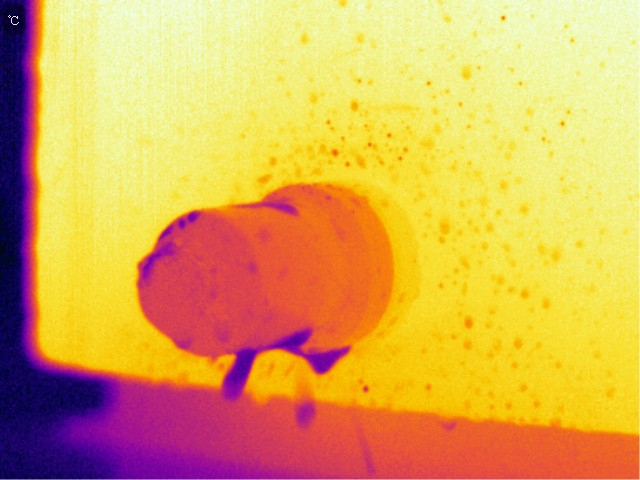Water: (214, 331, 269, 413), (325, 129, 414, 174), (268, 313, 321, 361), (292, 393, 333, 434), (296, 347, 352, 374), (256, 198, 305, 224), (432, 404, 465, 435), (352, 376, 381, 398), (171, 337, 198, 354), (462, 310, 476, 331), (513, 334, 525, 352)
